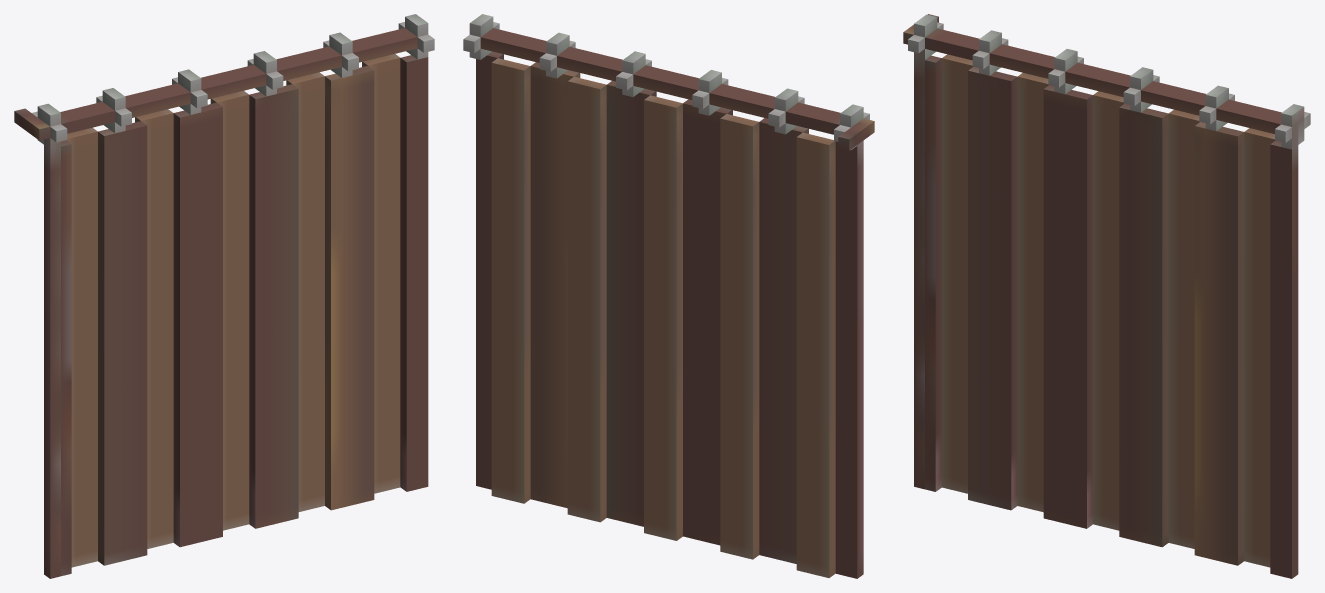
Rendered from CurtainBrown_00.fbx.
3 views of the same model, side by side, from view 1: azimuth 30°, elevation 25°; view 2: azimuth 150°, elevation 25°; view 3: azimuth 330°, elevation 25° (orthographic).
Visible parts, largest first — view 1: CurtainBrown_00; view 2: CurtainBrown_00; view 3: CurtainBrown_00.
Part boxes in pixels (x1=…): CurtainBrown_00: x1=14, y1=14, x2=434, y2=578; CurtainBrown_00: x1=463, y1=14, x2=874, y2=578; CurtainBrown_00: x1=903, y1=14, x2=1310, y2=578.
Bounding box in the file's own units: 180 × 25 × 205.
1 material, 1 textured.
